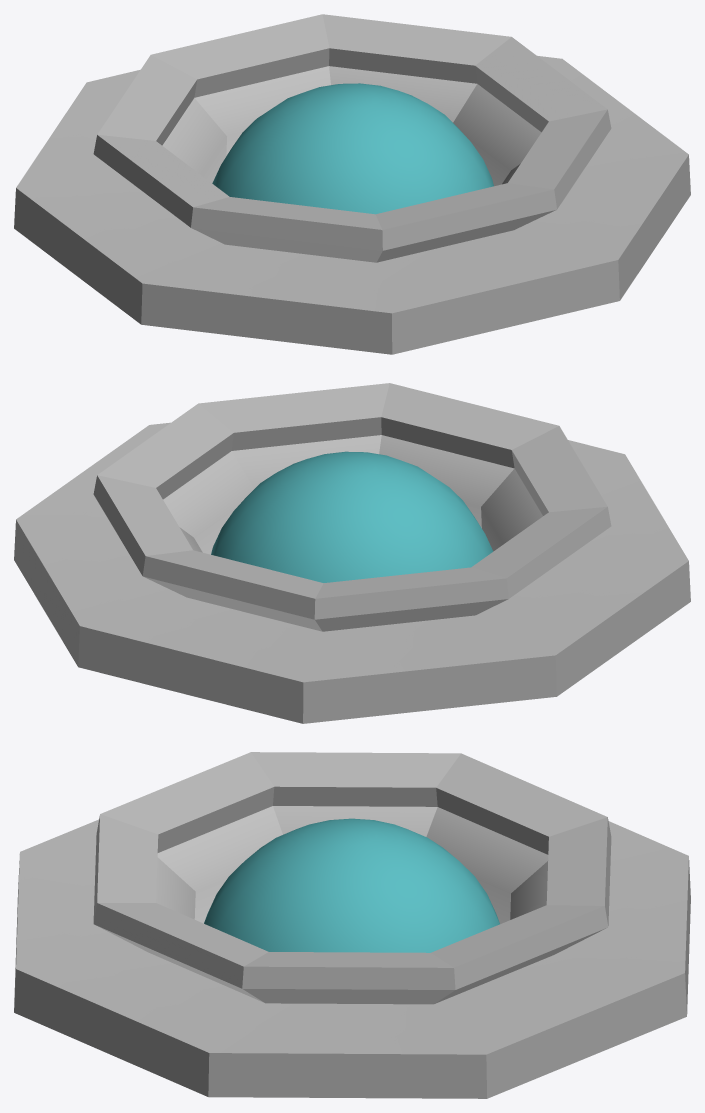
Rendered from spacelamp.fbx.
The picture shows the model from 3 angles, top to bottom: view 1: azimuth 30°, elevation 25°; view 2: azimuth 150°, elevation 25°; view 3: azimuth 270°, elevation 25°; orthographic projection. The views are drawn at different scales.
Visible parts, largest first — view 1: pTorus1, pSphere1; view 2: pTorus1, pSphere1; view 3: pTorus1, pSphere1.
Boxes of the visible parts, bbox=[...] form: pTorus1: bbox=[14, 14, 690, 354]; pSphere1: bbox=[212, 83, 493, 214]; pTorus1: bbox=[14, 383, 690, 723]; pSphere1: bbox=[211, 451, 493, 582]; pTorus1: bbox=[14, 752, 690, 1098]; pSphere1: bbox=[204, 818, 499, 952].
Size of the model in its own units: 21.83 by 7.54 by 21.83.
